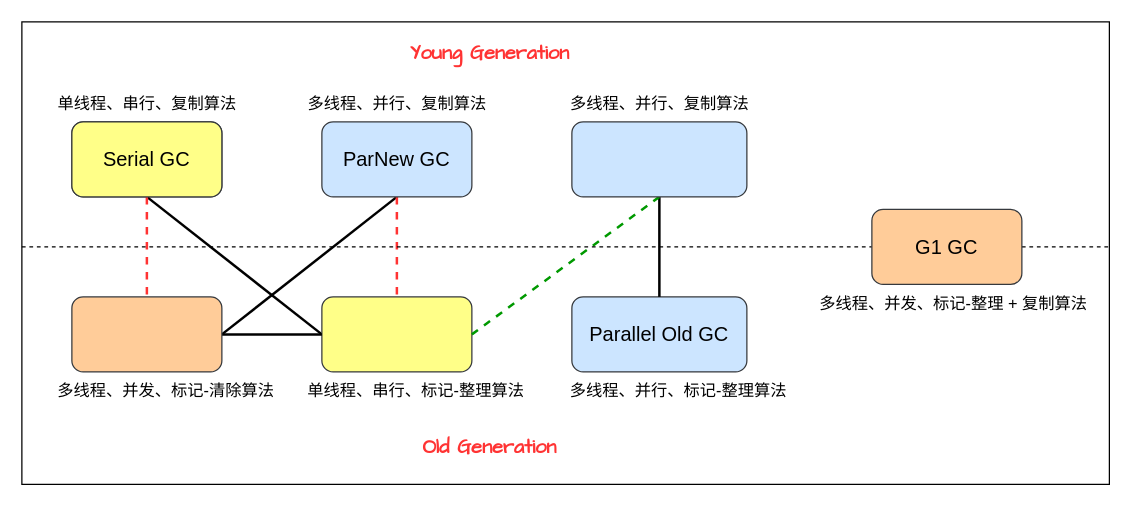
The diagram is 1133 pixels wide and 506 high, and some of its shapes have lost their labels. The shapes that lost their labels are listed below. From the top down, each one's centre as x and y in pixels, then its label:
the point at 659,159: Parallel Scavenge GC
the point at 146,334: CMS GC
the point at 396,334: Serial Old GC
